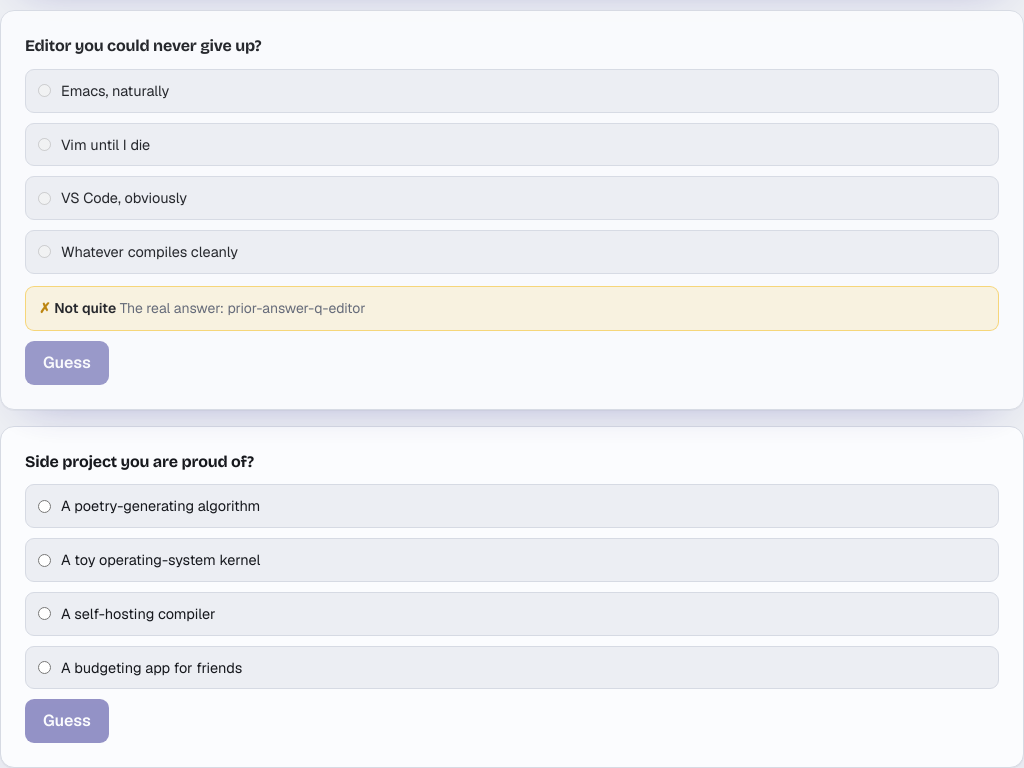
Test: GuessForm: score modal on completion › shows a score dialog with the correct count and total once every question is resolved
(page scrolled)
Note: Resolve the only remaining question.
Click the radio button labelled "A budgeting app for friends" at (44, 668), box [38,661,51,674]
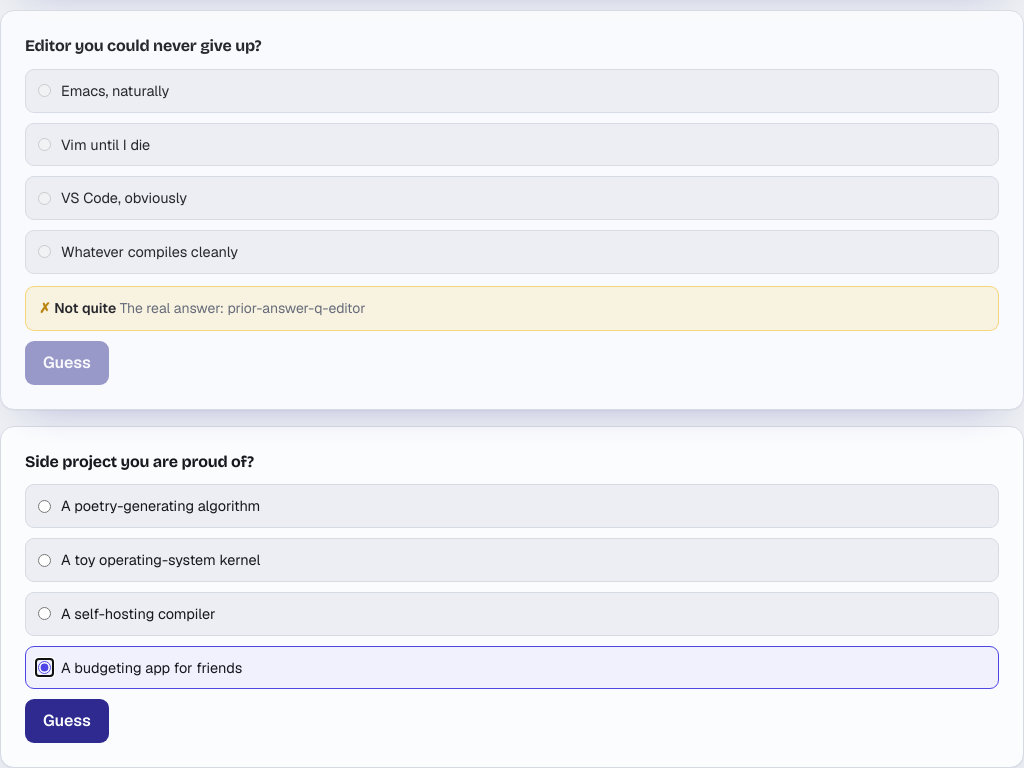
Click the button "Guess" below "A budgeting app for friends" at (67, 721), box [25,699,109,743]
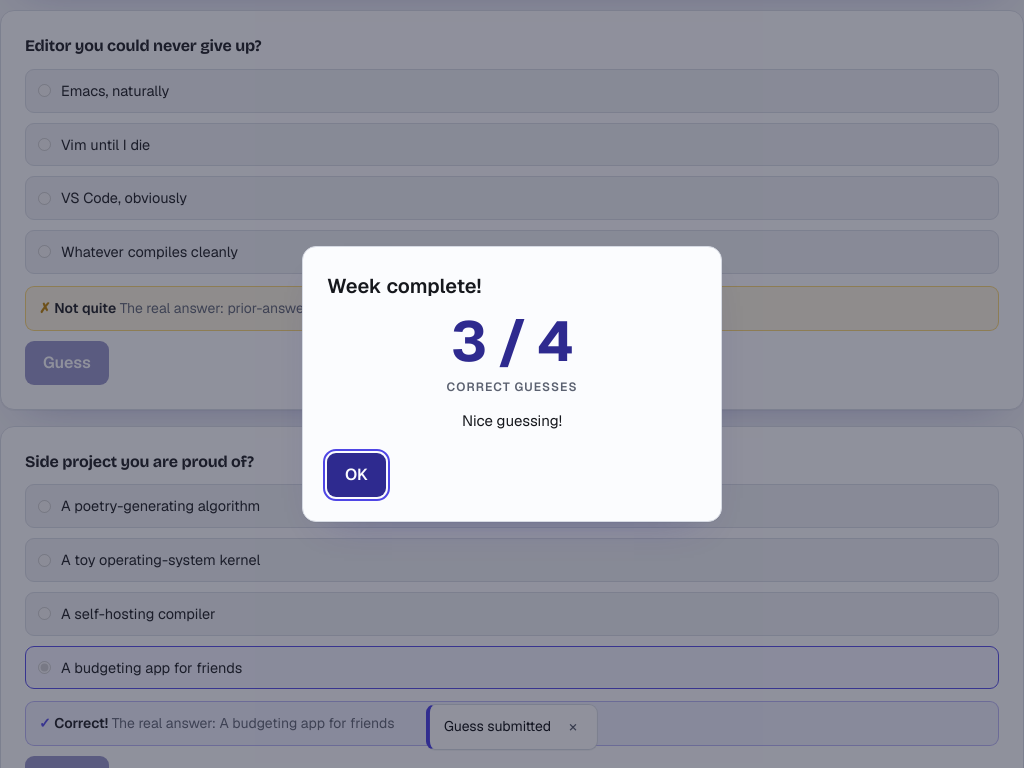
Expected: the dialog is shown, [302,246,722,522]
Expected: the text "correct guesses" is shown, [447,378,577,396]
Expected: the text "3 / 4" is shown, [451,313,573,372]
